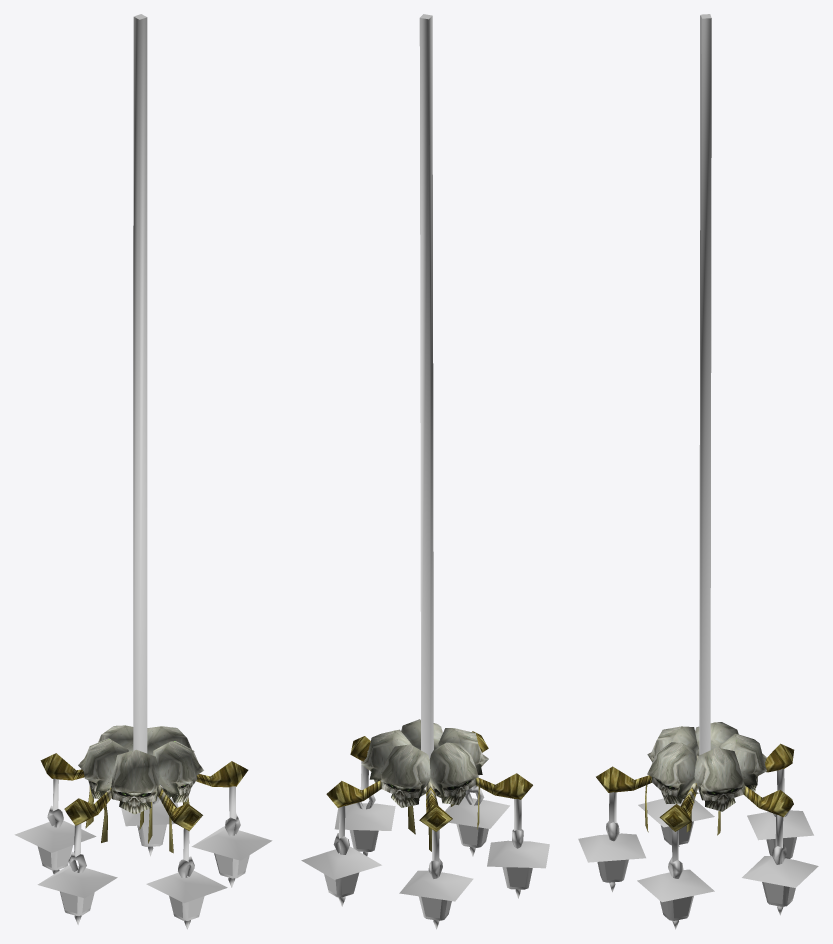
The model's file is undeadchandelier02.obj.
3 views of the same model, side by side, from view 1: azimuth 30°, elevation 25°; view 2: azimuth 150°, elevation 25°; view 3: azimuth 270°, elevation 25° (orthographic).
Visible parts, largest first — view 1: UNDEADCHANDELIER021, UNDEADCHANDELIER022, UNDEADCHANDELIER020, UNDEADCHANDELIER023, UNDEADCHANDELIER024; view 2: UNDEADCHANDELIER021, UNDEADCHANDELIER022, UNDEADCHANDELIER020, UNDEADCHANDELIER023, UNDEADCHANDELIER024; view 3: UNDEADCHANDELIER021, UNDEADCHANDELIER022, UNDEADCHANDELIER020, UNDEADCHANDELIER023, UNDEADCHANDELIER024.
Part boxes in pixels (box(x1,y1,x2,y2)): UNDEADCHANDELIER021: box(14, 14, 272, 929); UNDEADCHANDELIER022: box(78, 725, 203, 814); UNDEADCHANDELIER020: box(40, 753, 248, 853); UNDEADCHANDELIER023: box(37, 824, 249, 918); UNDEADCHANDELIER024: box(42, 824, 245, 920); UNDEADCHANDELIER021: box(301, 14, 549, 929); UNDEADCHANDELIER022: box(361, 719, 488, 807); UNDEADCHANDELIER020: box(326, 731, 532, 851); UNDEADCHANDELIER023: box(324, 824, 527, 918); UNDEADCHANDELIER024: box(328, 824, 532, 920); UNDEADCHANDELIER021: box(578, 14, 818, 929); UNDEADCHANDELIER022: box(647, 722, 766, 811); UNDEADCHANDELIER020: box(596, 743, 794, 835); UNDEADCHANDELIER023: box(597, 821, 795, 918); UNDEADCHANDELIER024: box(599, 821, 796, 920).
Size of the model in its own units: 6.07 by 22.99 by 5.72.
